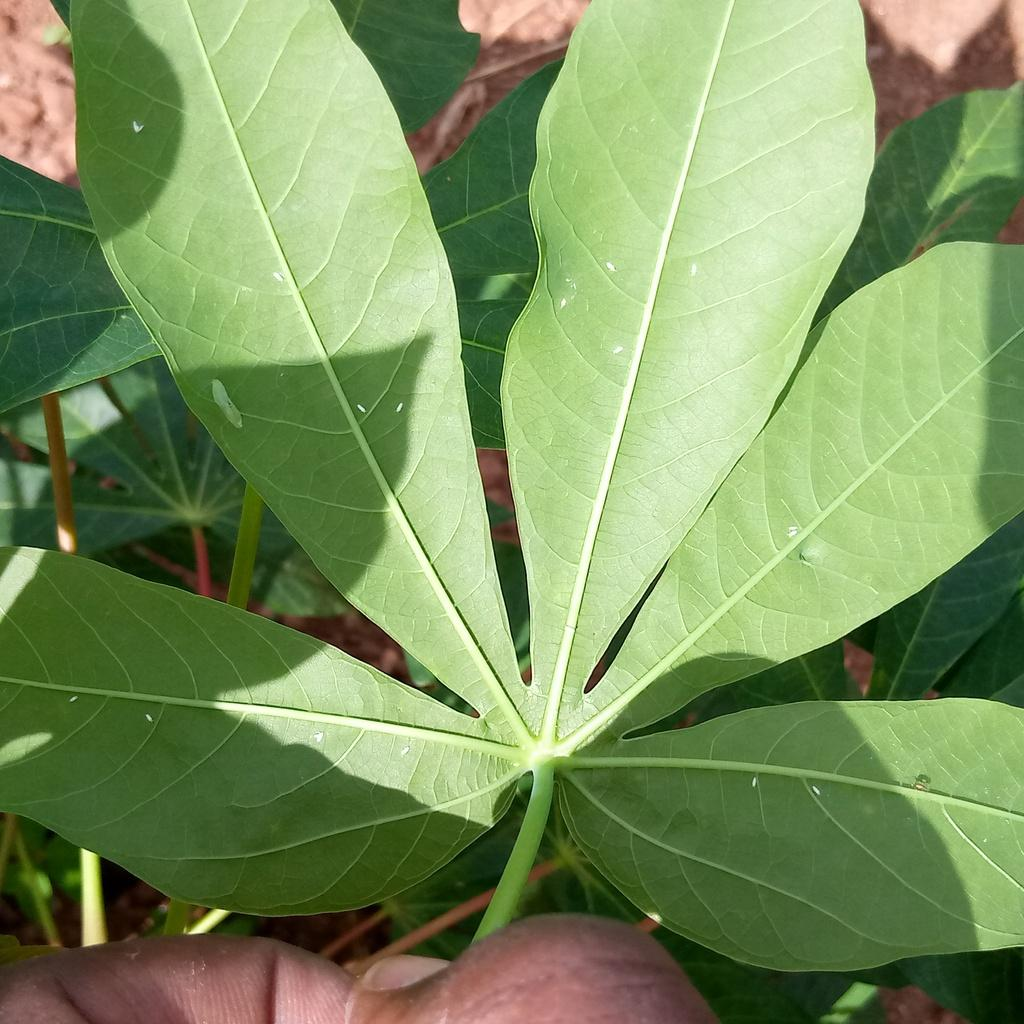adult: (132, 121, 145, 134), (605, 261, 616, 272), (313, 731, 323, 743), (273, 272, 284, 282), (613, 345, 623, 355), (400, 746, 410, 756), (356, 404, 366, 413), (787, 531, 798, 539), (690, 263, 697, 275), (811, 786, 820, 795), (145, 713, 153, 723), (751, 776, 757, 788), (396, 403, 403, 413), (560, 298, 566, 309), (69, 695, 78, 702), (788, 526, 798, 531)
